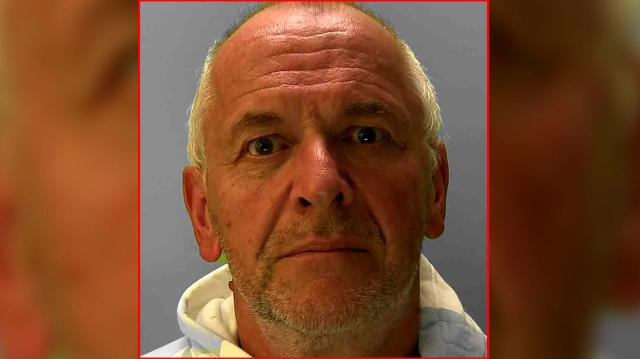crows_feet: (226, 148, 248, 168)
forehead: (258, 60, 356, 91), (274, 31, 350, 66), (366, 76, 392, 102), (233, 84, 255, 103)
gummy_smile: (366, 199, 392, 246), (257, 204, 277, 248)
